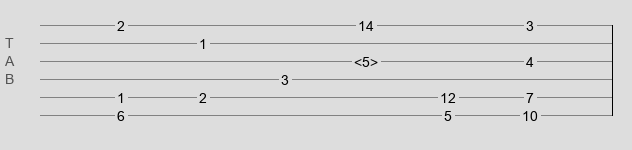1: (117, 90, 125, 100), (199, 36, 207, 46)
10: (522, 108, 538, 118)
12: (440, 90, 456, 100)
14: (358, 18, 374, 28)
2: (117, 18, 125, 28), (199, 90, 207, 100)
3: (281, 72, 289, 82), (526, 18, 534, 28)
4: (526, 54, 534, 64)
5: (444, 108, 452, 118)
6: (117, 108, 125, 118)
7: (526, 90, 534, 100)
harmonic: (354, 54, 378, 64)
